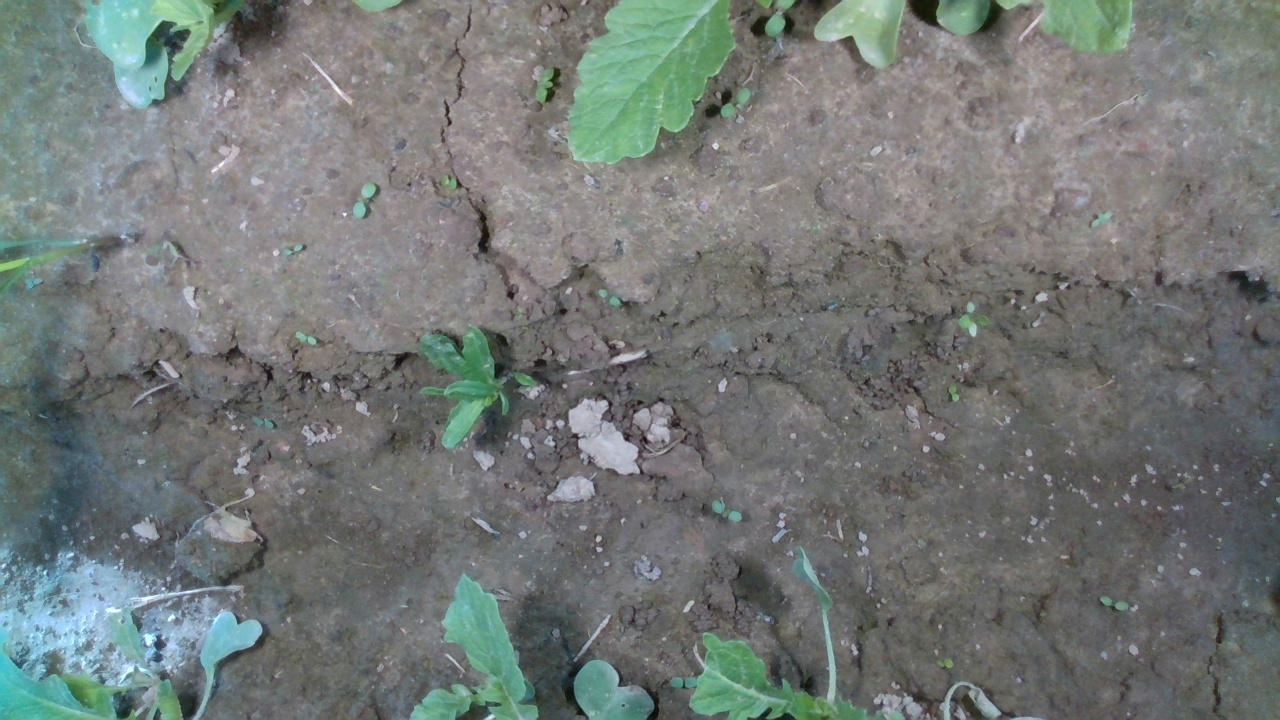weed: (956, 299, 993, 338), (717, 86, 751, 119), (350, 181, 377, 220), (534, 65, 556, 104), (710, 498, 743, 524), (1097, 593, 1132, 613), (248, 411, 274, 432), (598, 287, 622, 309), (1089, 207, 1113, 229), (292, 330, 318, 348), (437, 171, 458, 192), (281, 244, 306, 257), (935, 656, 955, 671), (947, 384, 961, 404)
